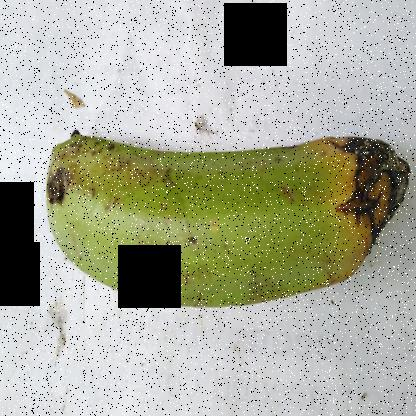rotten: (304, 115, 416, 306)
unripe: (39, 102, 329, 328)
